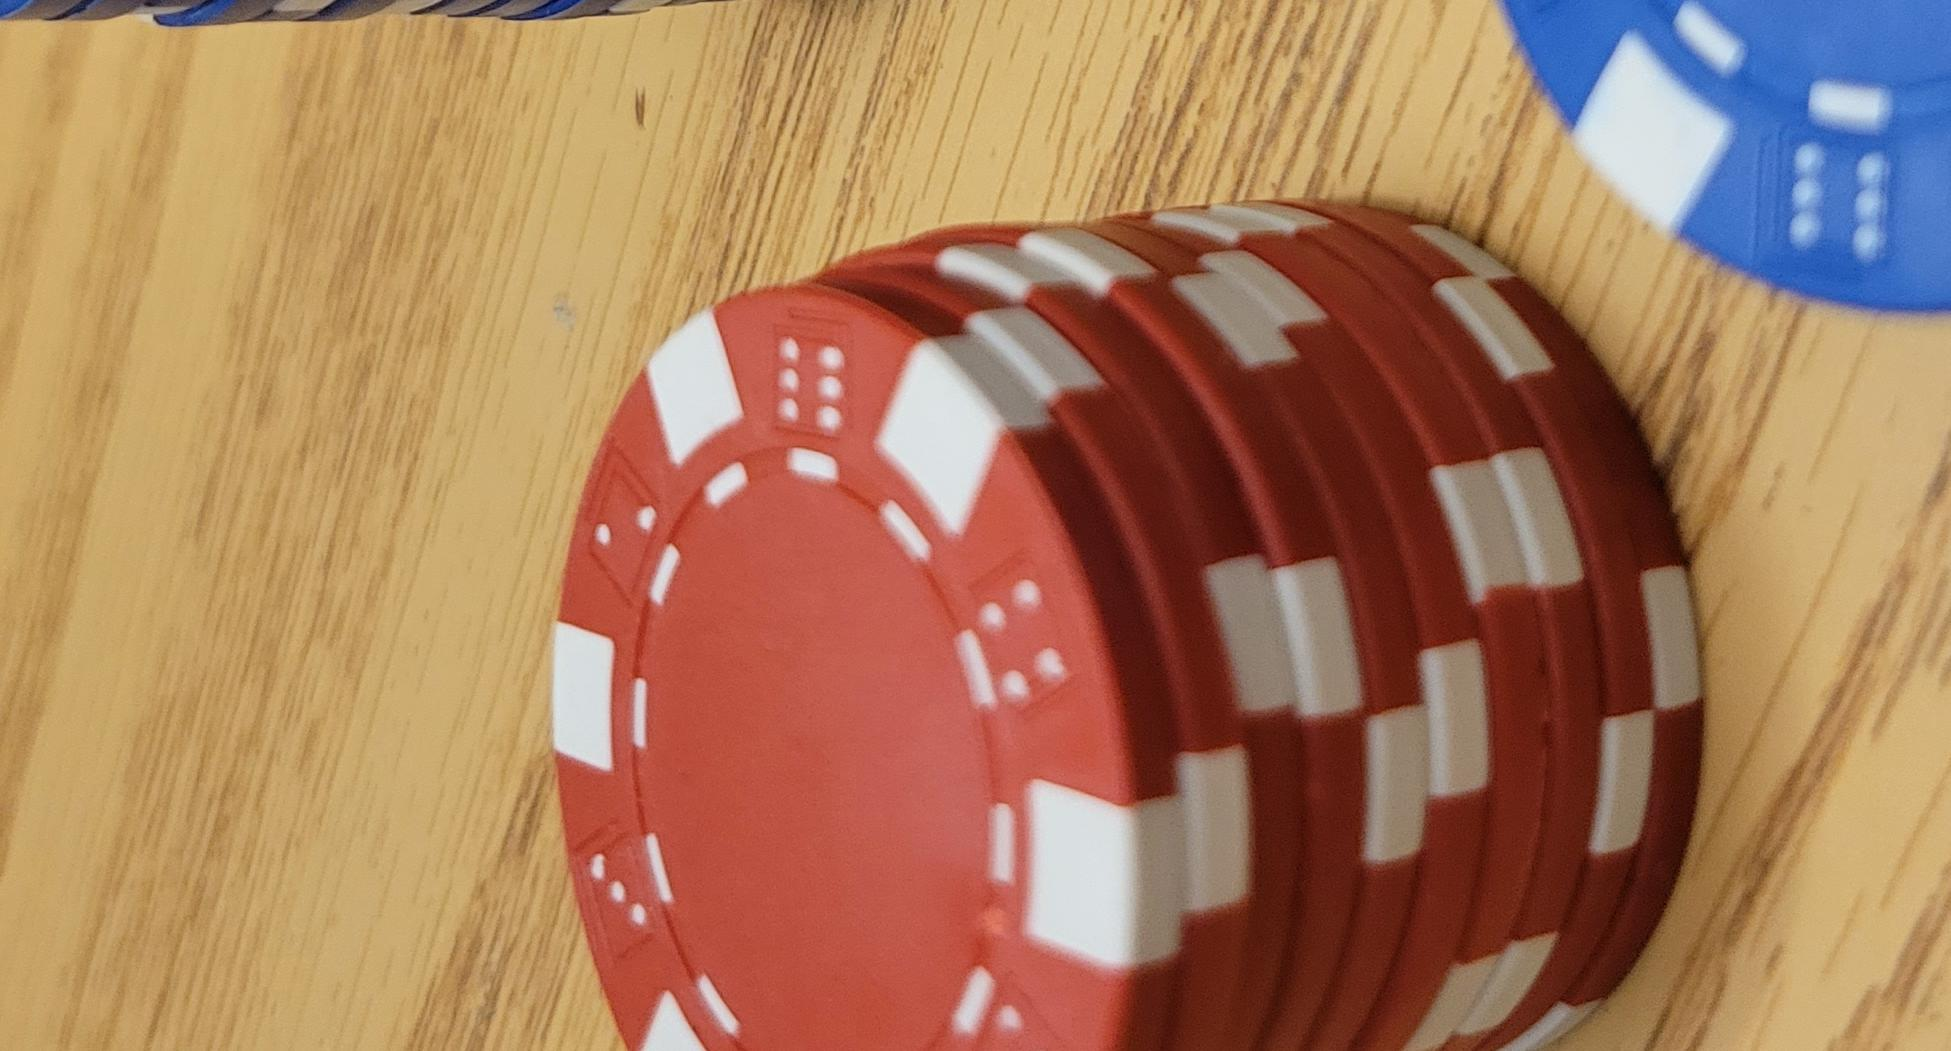Chip: (1, 588, 1223, 1051)
